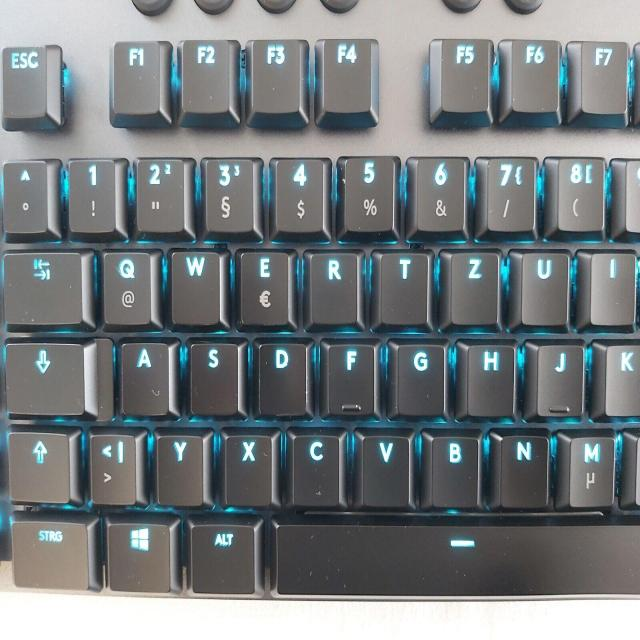1: (66, 155, 117, 234)
2: (132, 154, 187, 234)
3: (200, 154, 256, 236)
4: (271, 154, 326, 235)
5: (338, 151, 399, 236)
6: (410, 153, 470, 234)
7: (483, 153, 537, 233)
8: (554, 154, 606, 233)
a: (119, 335, 171, 416)
alt-left: (188, 520, 257, 593)
b: (427, 427, 481, 507)
c: (288, 427, 342, 506)
caret: (1, 158, 48, 235)
d: (253, 334, 310, 417)
e: (236, 246, 292, 326)
f: (322, 337, 378, 415)
g: (392, 338, 447, 416)
h: (465, 338, 516, 416)
i: (589, 246, 636, 326)
j: (536, 339, 585, 415)
k: (604, 339, 638, 417)
less: (88, 429, 137, 503)
m: (568, 431, 617, 507)
n: (498, 428, 550, 507)
q: (100, 245, 154, 326)
r: (306, 247, 361, 326)
s: (186, 336, 241, 415)
shift-left: (6, 428, 72, 503)
shift-lock: (2, 337, 87, 417)
space: (269, 515, 639, 594)
strg-left: (8, 518, 90, 589)
t: (377, 247, 430, 325)
tab: (3, 246, 88, 327)
u: (519, 245, 571, 326)
v: (359, 428, 412, 506)
w: (169, 245, 222, 326)
x: (221, 426, 275, 506)
y: (154, 429, 204, 506)
z: (448, 247, 501, 326)
